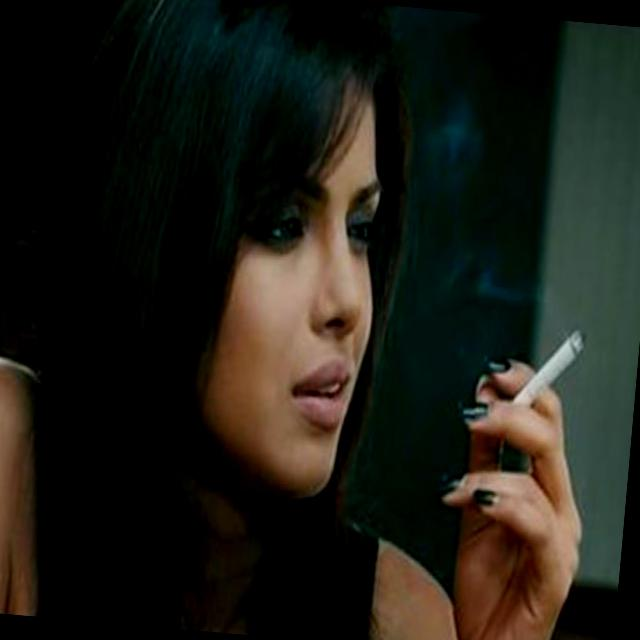smoke: (454, 287, 610, 492)
